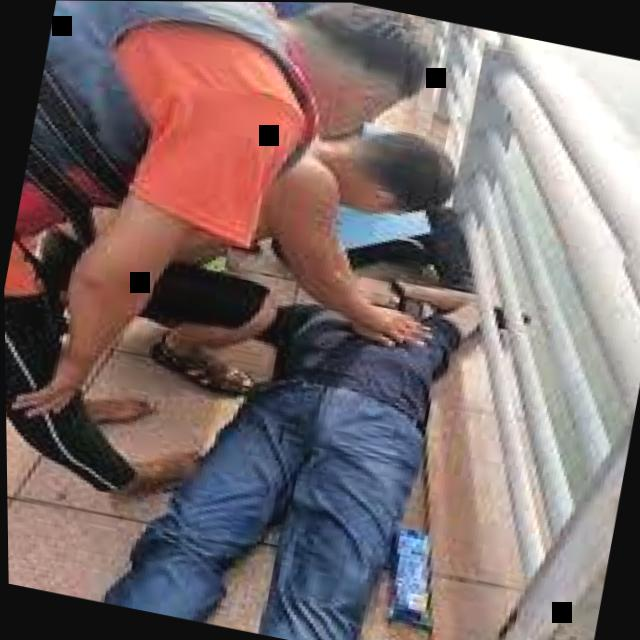Fall-Detected: (69, 157, 521, 640)
